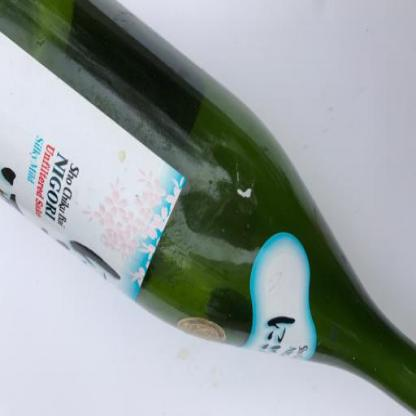trash: (1, 1, 415, 416)
